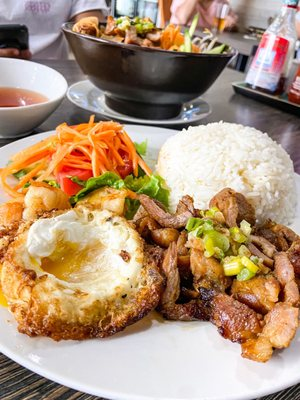soup: (153, 121, 299, 227)
sushi: (61, 11, 236, 124), (0, 57, 68, 140)
